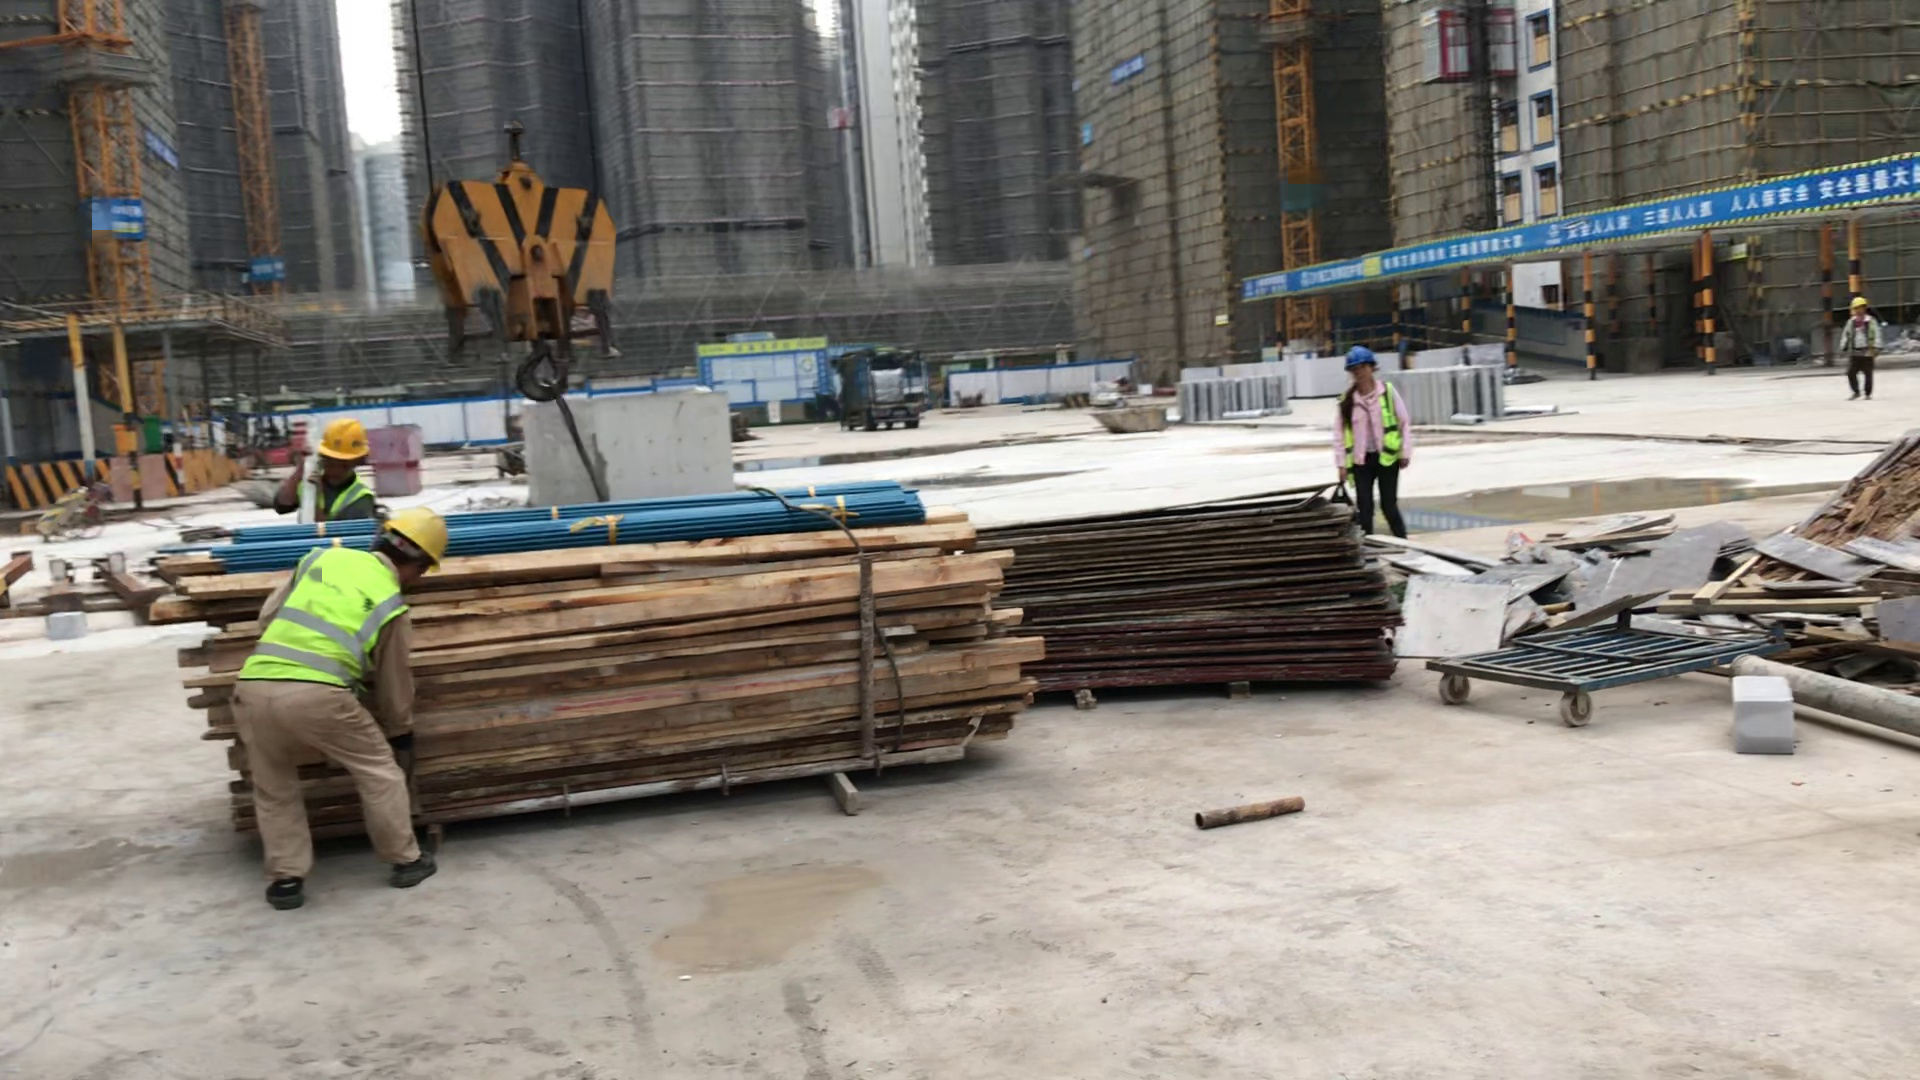board: (986, 518, 1410, 691)
brick: (1265, 351, 1344, 400)
handcart: (1426, 635, 1739, 725), (30, 456, 128, 550)
helmet: (383, 505, 449, 575), (313, 416, 372, 463), (1342, 346, 1380, 370)
hook: (417, 145, 626, 404)
hopper: (1084, 397, 1169, 444)
person: (244, 504, 449, 909), (1331, 342, 1411, 548), (277, 414, 381, 532), (1834, 283, 1888, 408), (260, 416, 281, 438)
slogan: (245, 248, 286, 291), (1100, 50, 1147, 86)
vest: (247, 541, 402, 688), (1338, 378, 1398, 470), (287, 477, 378, 519)
wood: (401, 504, 1004, 832)
